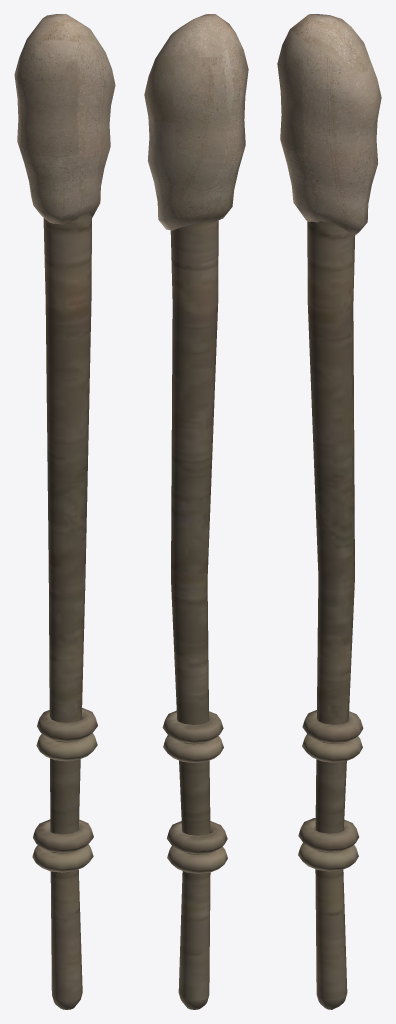
Rendered from ti_torch.glb.
The picture shows the model from 3 angles, left to right: view 1: azimuth 30°, elevation 25°; view 2: azimuth 150°, elevation 25°; view 3: azimuth 330°, elevation 25°; orthographic projection.
Visible parts, largest first — view 1: KB3D_TIS_Torch_A_Main; view 2: KB3D_TIS_Torch_A_Main; view 3: KB3D_TIS_Torch_A_Main.
Boxes of the visible parts, x1=… form: KB3D_TIS_Torch_A_Main: x1=14, y1=14, x2=115, y2=1009; KB3D_TIS_Torch_A_Main: x1=144, y1=14, x2=248, y2=1009; KB3D_TIS_Torch_A_Main: x1=277, y1=14, x2=381, y2=1009.
Bounding box in the file's own units: 0.0996 × 1.01 × 0.0808.
Materials: 2 (2 with a texture image).
